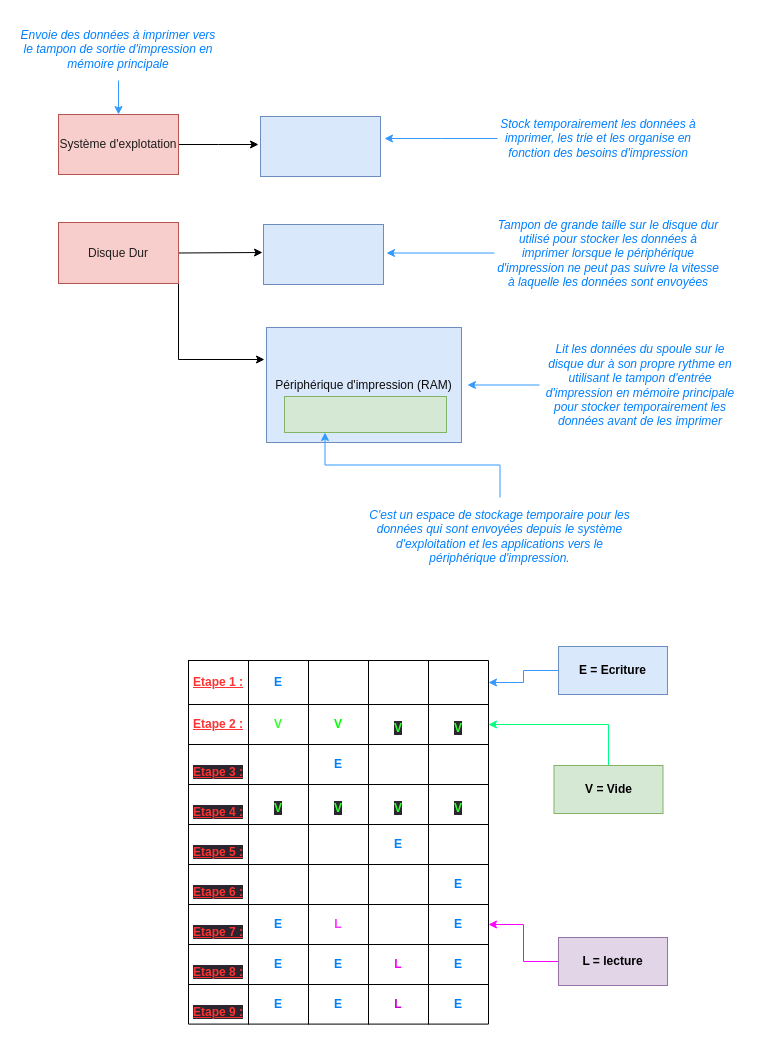
Image size: 758x1042. Some labels were removed from this diagram. Here are the shapes that lost their labels. From the top down, the centre of each, then its label:
the point at 320,146: Tampon de sortie
the point at 323,254: Spoule d'impression
the point at 365,414: Tampon d'entrée
